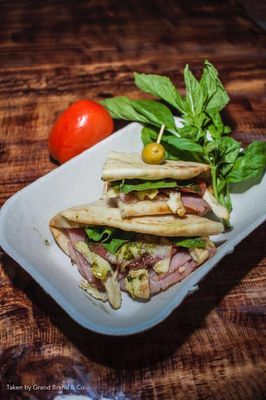soup: (49, 203, 223, 307), (101, 148, 216, 222)
